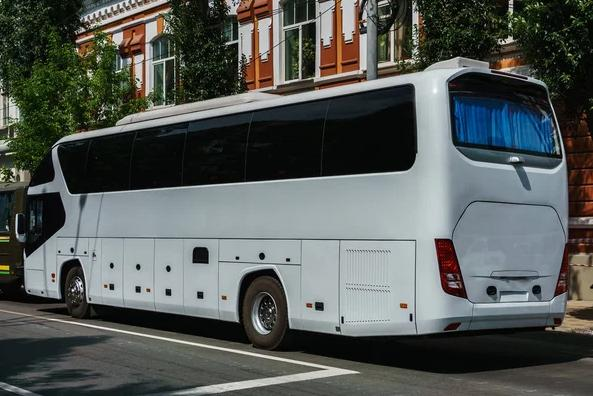vehicle: (15, 57, 568, 350)
